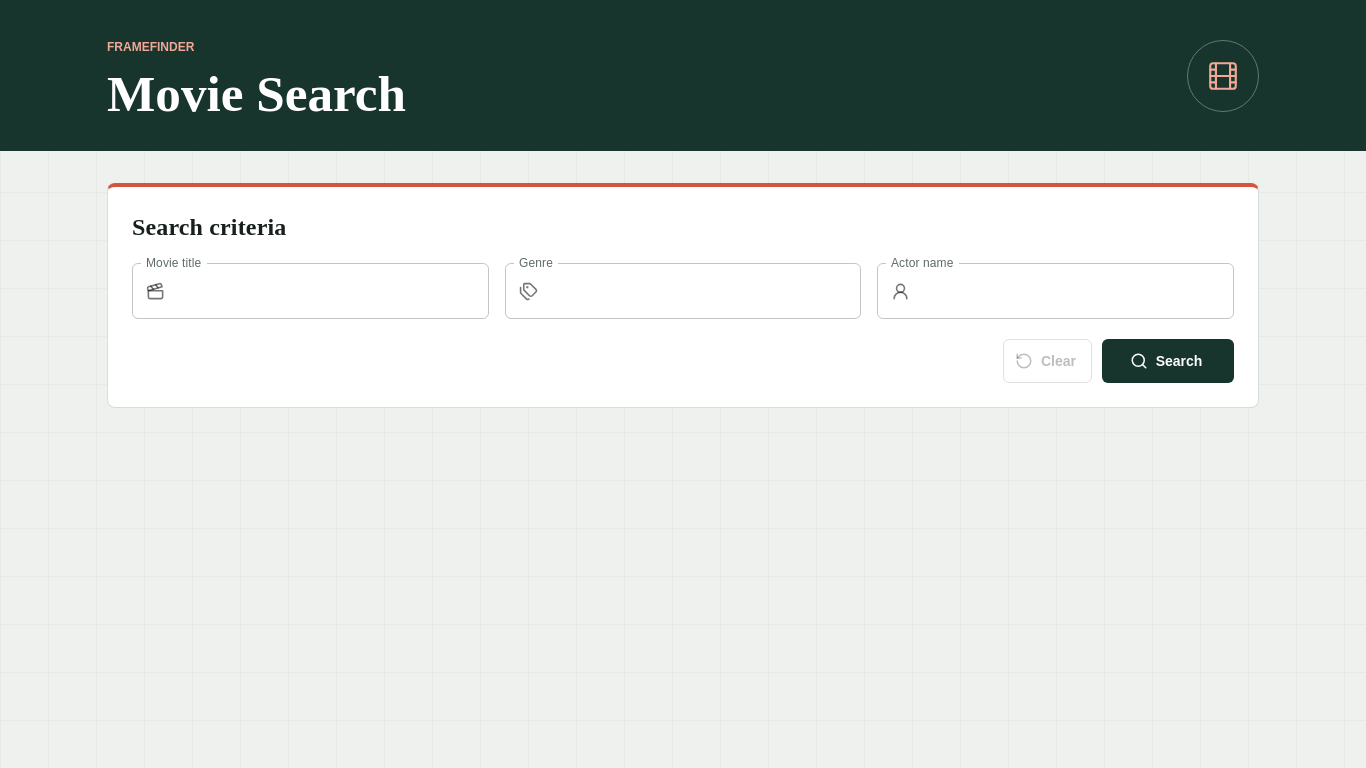
Test: MovieSearchPage › clears an in-flight search without restoring stale results
Type "Matrix" into the field labelled "Movie title". click: (331, 291)
box: [173, 263, 489, 319]
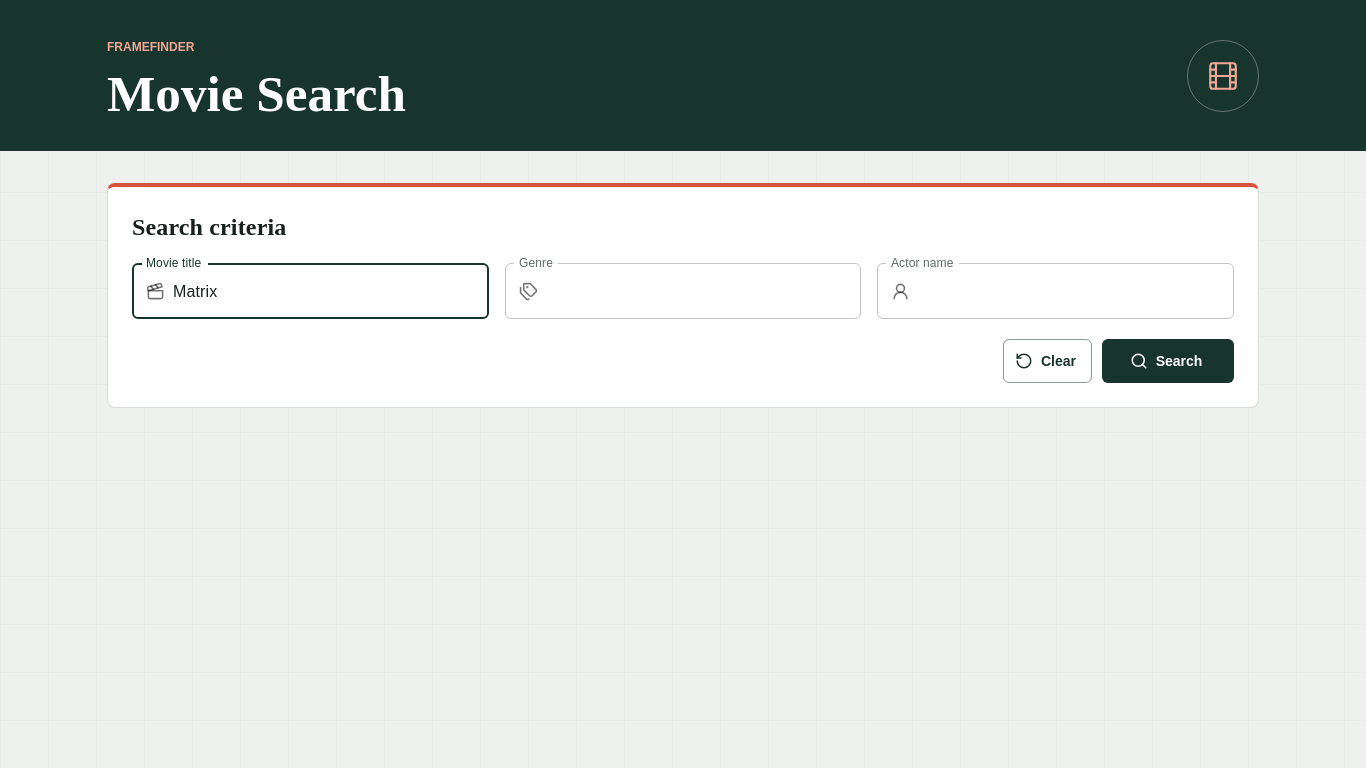
Click the button "Search". click: (1168, 361)
box: [1102, 339, 1234, 383]
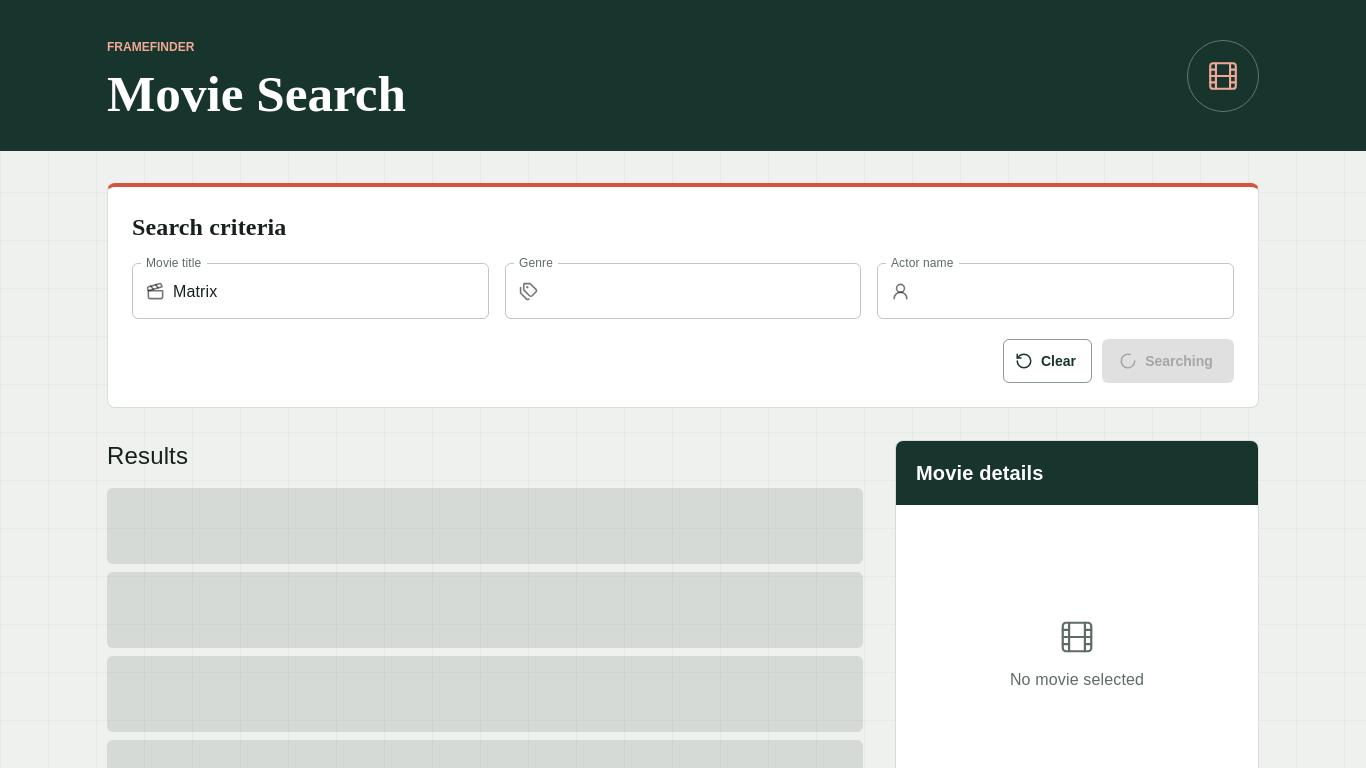
Click the button "Clear". click: (1048, 361)
box: [1003, 339, 1092, 383]
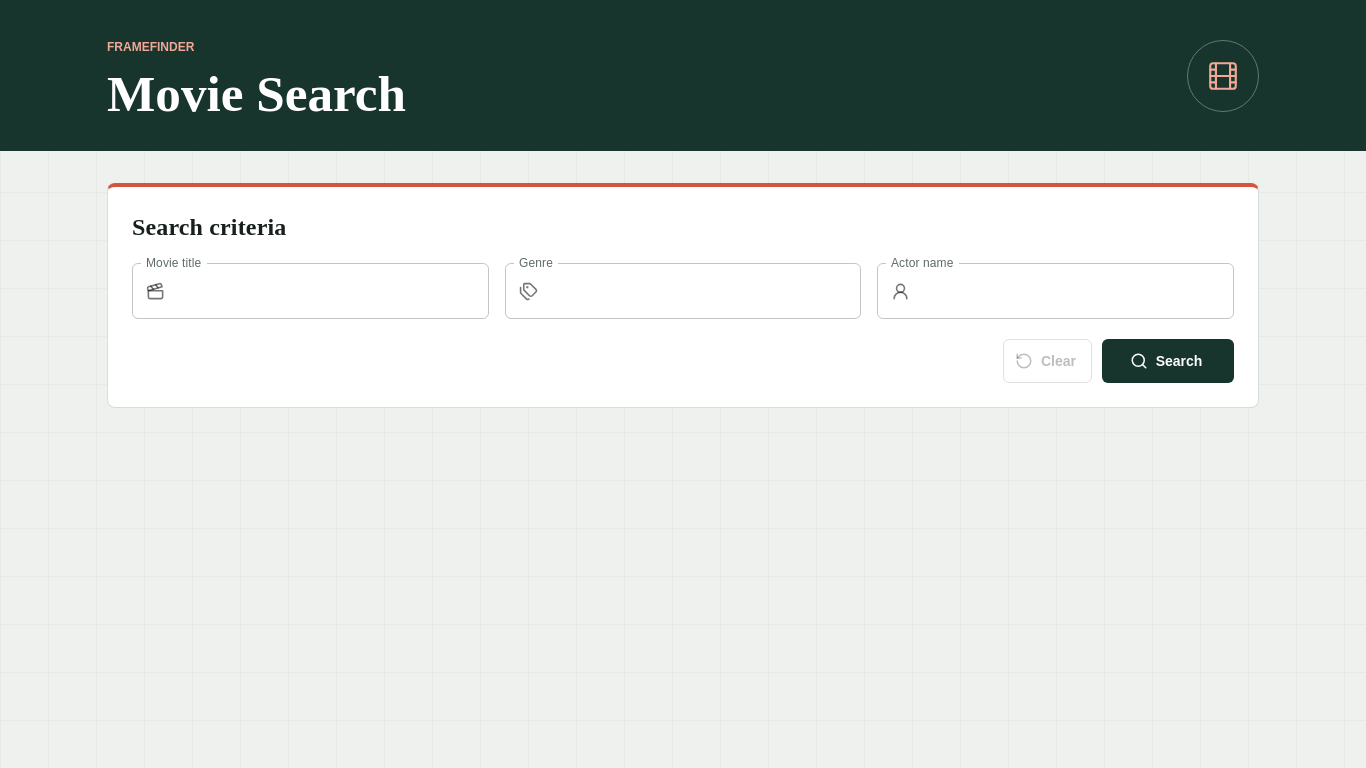
expect the field labelled "Movie title" is empty: met, box [173, 263, 489, 319]
expect the heading "Results" is gone: met
